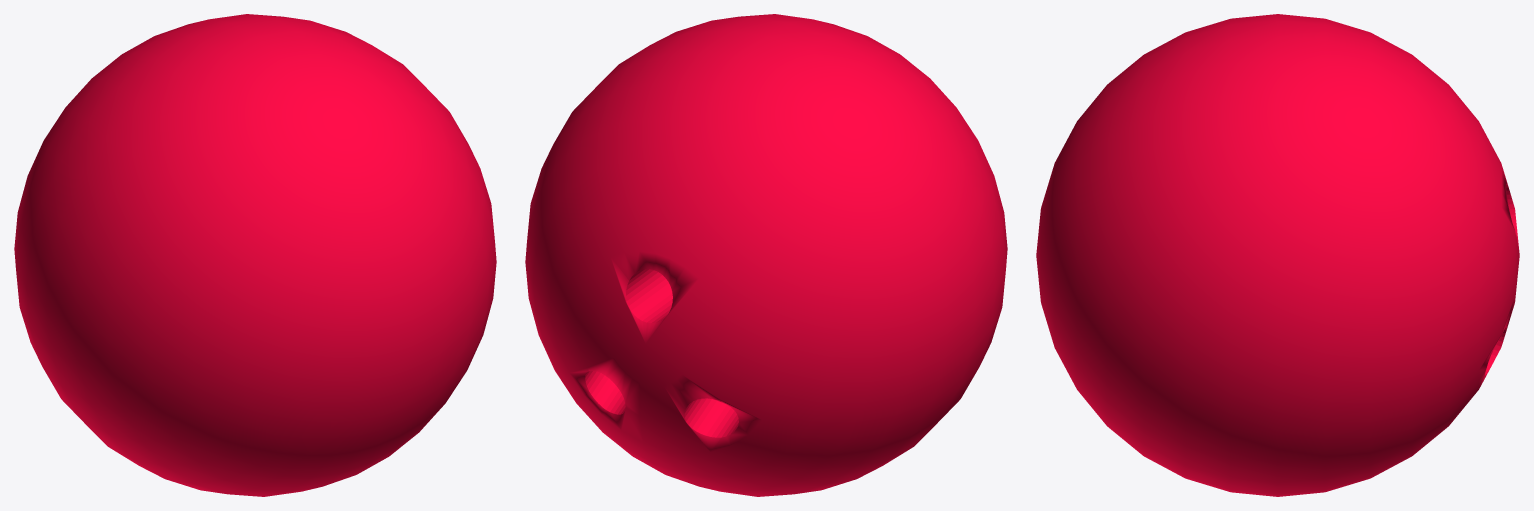
File: Bowlingling.fbx
3 views of the same model, side by side, from view 1: azimuth 30°, elevation 25°; view 2: azimuth 150°, elevation 25°; view 3: azimuth 270°, elevation 25° (orthographic).
Visible parts, largest first — view 1: 球; view 2: 球; view 3: 球.
Boxes of the visible parts, x1,y1,x2,y2 form: 球: (14, 14, 496, 496); 球: (525, 14, 1007, 496); 球: (1036, 14, 1519, 496).
Size of the model in its own units: 200 by 200 by 200.
